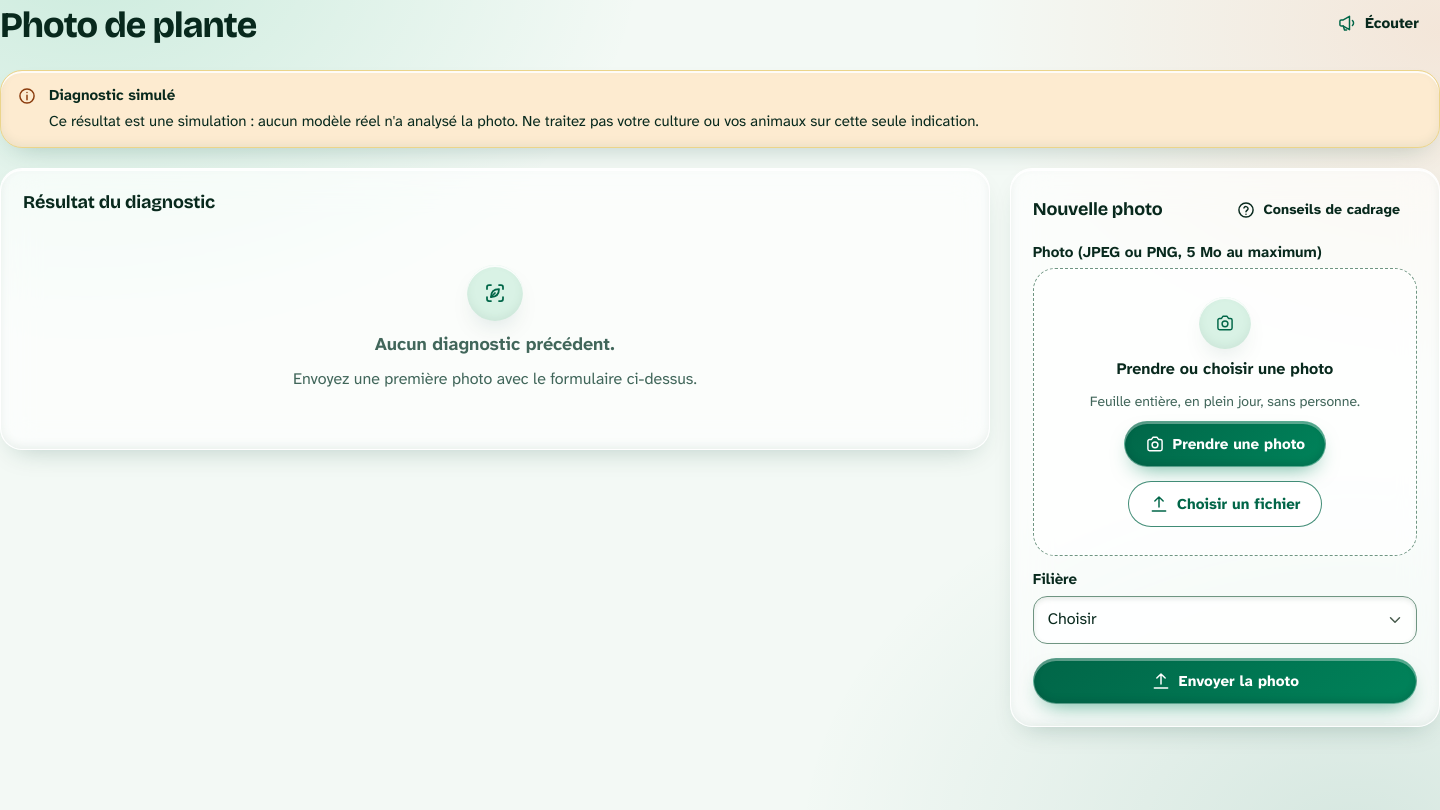
Diagnostic par photo › caméra refusée : message clair et repli vers l'appareil photo du système
Click the button "Prendre une photo".
click(1225, 444)  # box [1124,421,1326,467]
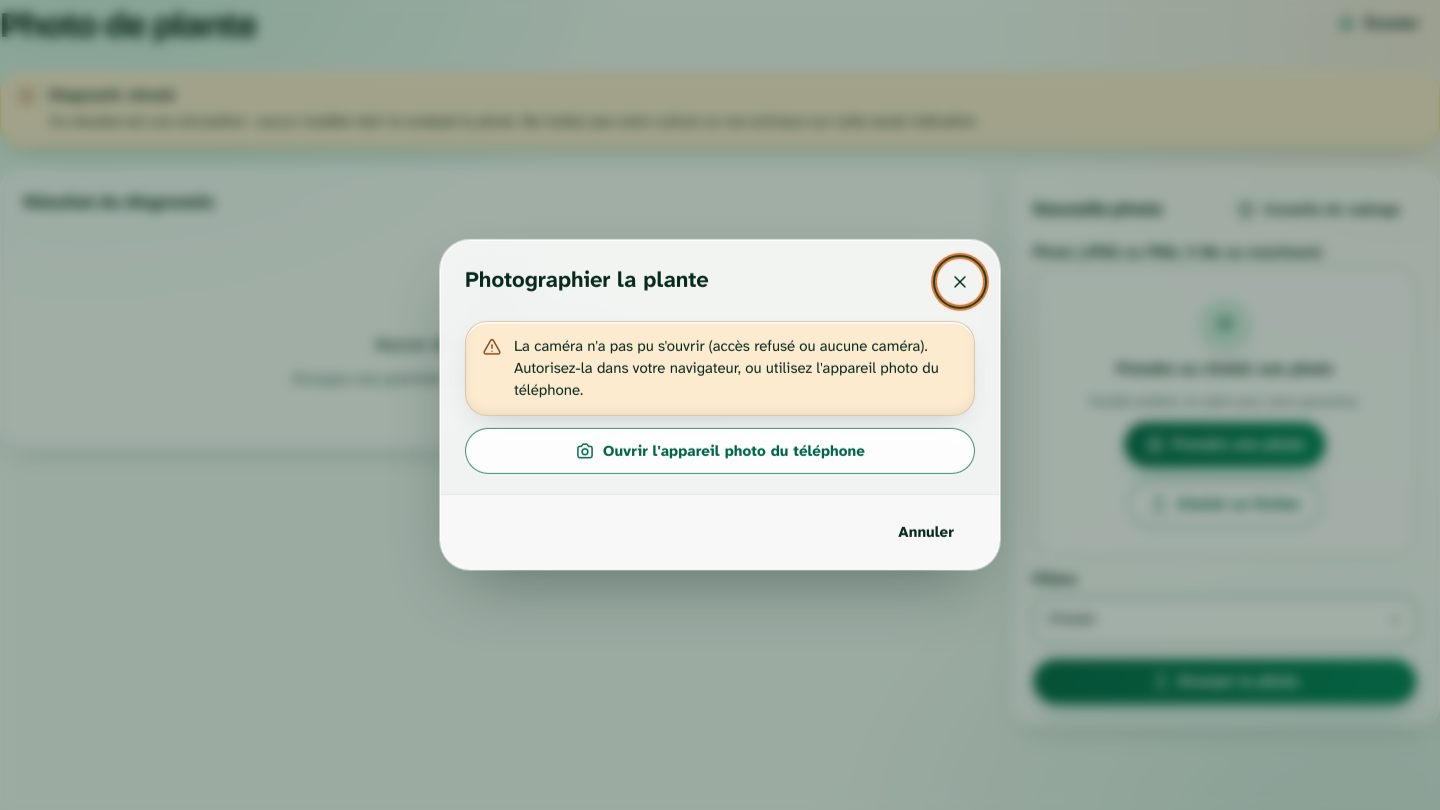
Expected: the text "La caméra n'a pas pu s'ouvrir" is shown, [514,336,939,399]
Expected: the button "Ouvrir l'appareil photo du téléphone" is shown, [465,428,975,474]
